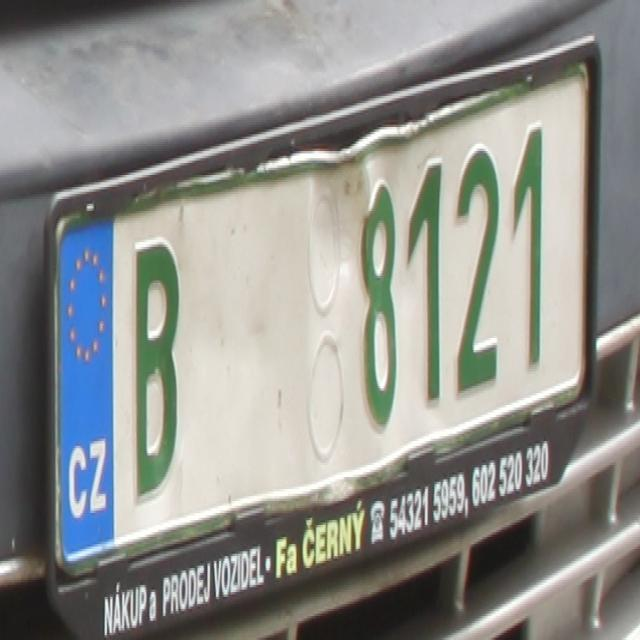1: (512, 117, 546, 367), (408, 161, 441, 412)
2: (453, 144, 502, 391)
8: (359, 175, 397, 436)
B: (129, 237, 177, 501)
